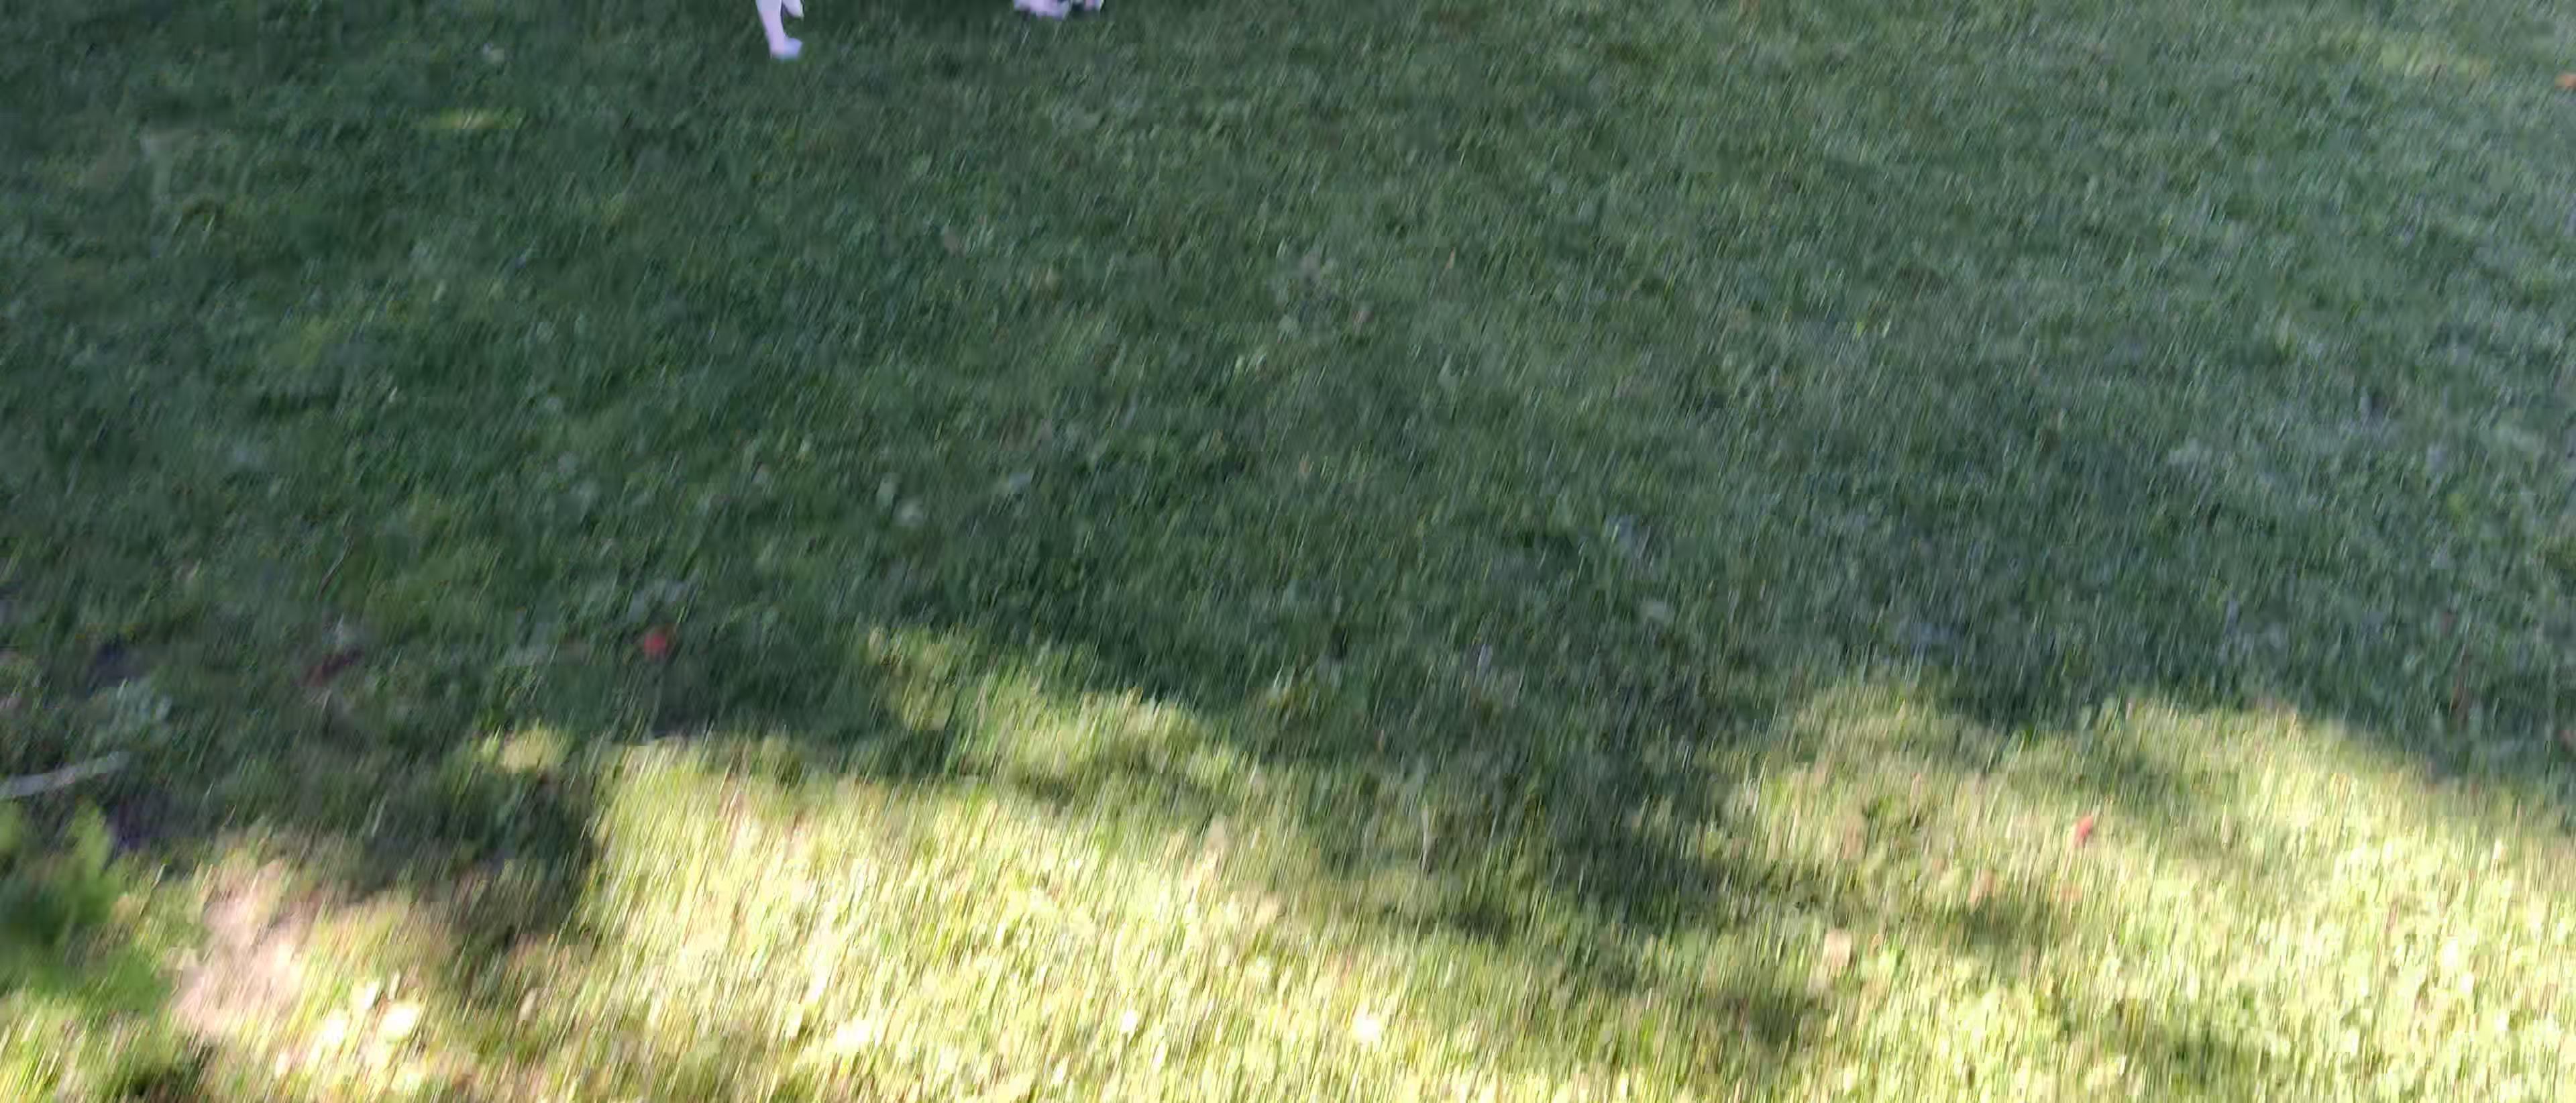Dog: (741, 0, 823, 72)
